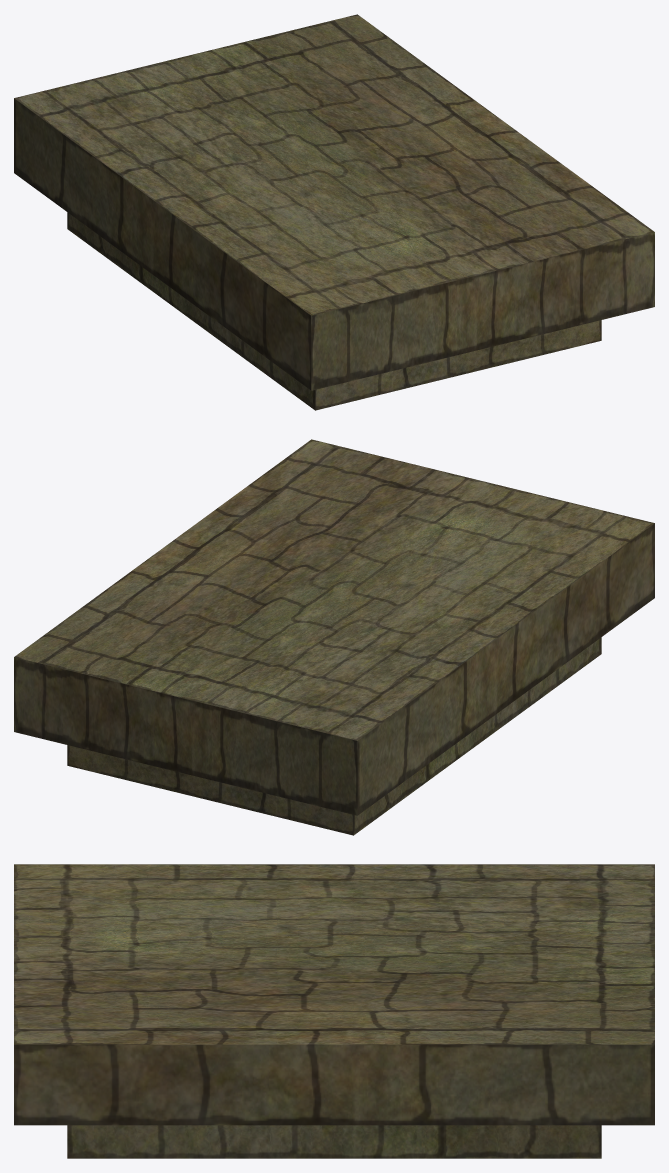
The model's file is ArcTop.fbx.
The picture shows the model from 3 angles, top to bottom: view 1: azimuth 30°, elevation 25°; view 2: azimuth 150°, elevation 25°; view 3: azimuth 270°, elevation 25°; orthographic projection. The views are drawn at different scales.
Visible parts, largest first — view 1: polySurface3; view 2: polySurface3; view 3: polySurface3.
Boxes of the visible parts, <box> form: polySurface3: <box>14,14,654,410</box>; polySurface3: <box>14,439,654,835</box>; polySurface3: <box>14,864,654,1158</box>.
Size of the model in its own units: 300 by 100 by 450.
